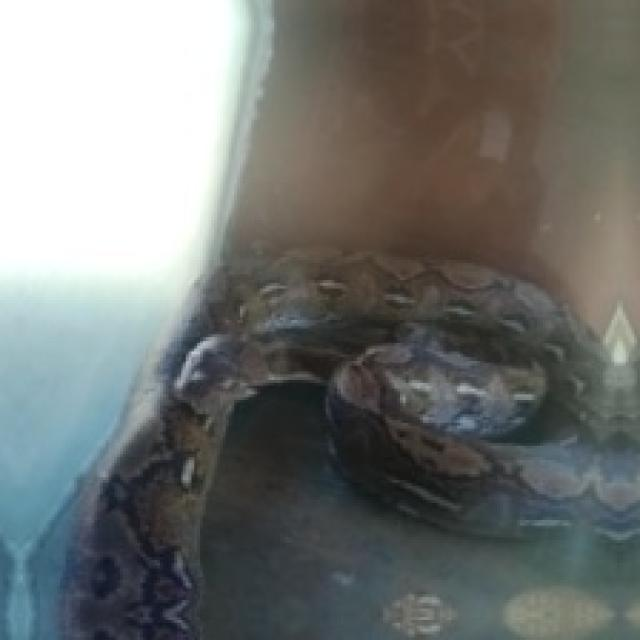reticulated python: (63, 251, 637, 637)
